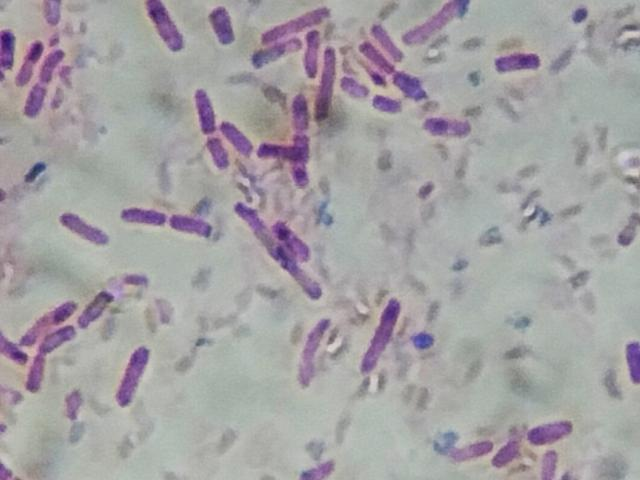E. coli: (362, 293, 406, 377), (288, 313, 330, 390), (111, 337, 156, 407), (402, 0, 469, 41), (54, 204, 110, 251), (142, 0, 188, 55), (495, 47, 557, 85), (265, 6, 339, 35), (275, 252, 319, 299), (288, 127, 320, 191), (233, 205, 273, 254), (23, 298, 80, 329), (322, 50, 345, 122), (419, 113, 471, 143), (18, 85, 57, 123), (81, 289, 122, 325), (276, 220, 314, 257), (173, 210, 218, 241), (15, 33, 40, 88), (532, 415, 580, 443), (39, 326, 80, 358), (255, 40, 303, 67), (206, 9, 238, 48), (532, 447, 569, 480), (442, 439, 495, 462), (495, 438, 541, 463), (121, 199, 156, 230), (375, 90, 411, 120), (301, 457, 347, 480), (25, 352, 50, 394), (305, 29, 326, 77), (191, 85, 214, 128), (375, 25, 408, 51), (223, 117, 248, 151), (202, 139, 232, 167), (339, 76, 375, 99), (0, 323, 21, 362), (365, 40, 391, 70), (41, 0, 66, 31), (261, 140, 294, 163), (45, 47, 65, 82), (2, 20, 13, 77), (291, 102, 314, 129), (399, 73, 418, 95)
